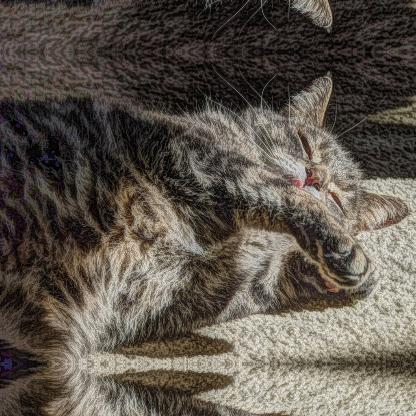Cat: (0, 68, 408, 362)
